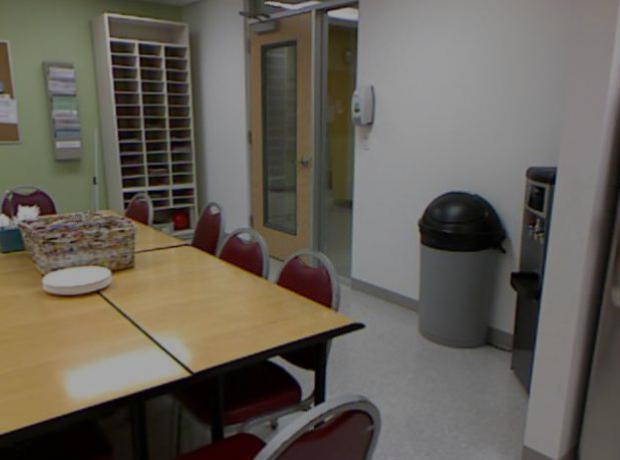Bote de Basura: (412, 186, 507, 354)
